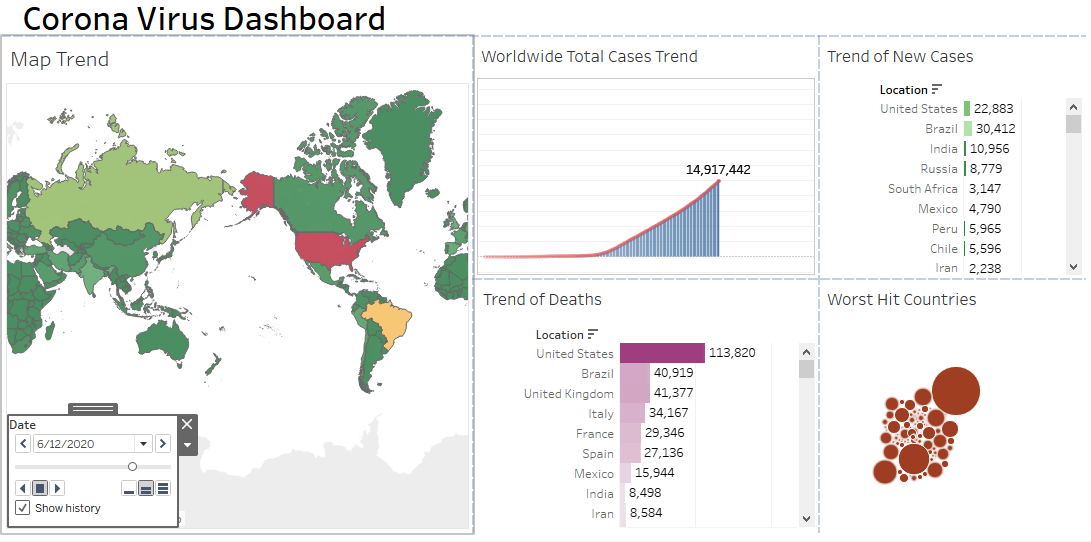

This screenshot's page, from the dashboard's own definition file:
{"tool":"tableau","page":{"name":"Corona Virus Dashboard","canvas":[1100,550],"ordinal":0},"visuals":[{"type":"worksheet","box":[0,0,1100,550]},{"type":"worksheet","param":"horz","box":[8,8,1084,534]},{"type":"worksheet","param":"horz","box":[8,8,1084,534]},{"type":"worksheet","param":"horz","box":[8,8,1084,534]},{"type":"worksheet","param":"horz","box":[8,8,1084,534]},{"type":"worksheet","param":"horz","box":[8,8,1084,534]},{"type":"worksheet","param":"horz","box":[8,8,1084,534]},{"type":"worksheet","param":"horz","box":[8,8,1084,534]},{"type":"worksheet","box":[8,8,1084,534]},{"type":"worksheet","box":[8,8,1084,37]},{"type":"worksheet","title":"Corona Worldwide","mark":"Automatic","box":[8,45,471,497]},{"type":"worksheet","title":"World Cases Trend","mark":"Bar","rows":["total_cases","total_cases"],"cols":["date"],"box":[479,45,346,243]},{"type":"worksheet","param":"horz","box":[825,45,267,243]},{"type":"worksheet","title":"Trend of NewCases","mark":"Automatic","rows":["location"],"cols":["new_cases"],"box":[825,45,267,243]},{"type":"worksheet","title":"Trend of Deaths","mark":"Bar","rows":["location"],"cols":["total_deaths"],"box":[479,288,346,254]},{"type":"worksheet","title":"Worst Hit Countries","mark":"Circle","box":[825,288,267,254]},{"type":"worksheet","title":"Corona Worldwide","mark":"Automatic","box":[15,425,168,110]}]}

Visuals, with their boxes in screenshot pixels (x1, y1, x2, y2), scaled from the page's 1100x550 canvas onto the 1091x542 screenshot:
worksheet: x1=0, y1=0, x2=1090, y2=541
worksheet: x1=8, y1=8, x2=1083, y2=534
worksheet: x1=8, y1=8, x2=1083, y2=534
worksheet: x1=8, y1=8, x2=1083, y2=534
worksheet: x1=8, y1=8, x2=1083, y2=534
worksheet: x1=8, y1=8, x2=1083, y2=534
worksheet: x1=8, y1=8, x2=1083, y2=534
worksheet: x1=8, y1=8, x2=1083, y2=534
worksheet: x1=8, y1=8, x2=1083, y2=534
worksheet: x1=8, y1=8, x2=1083, y2=44
"Corona Worldwide" worksheet: x1=8, y1=44, x2=475, y2=534
"World Cases Trend" worksheet (Bar marks): x1=475, y1=44, x2=818, y2=284
worksheet: x1=818, y1=44, x2=1083, y2=284
"Trend of NewCases" worksheet: x1=818, y1=44, x2=1083, y2=284
"Trend of Deaths" worksheet (Bar marks): x1=475, y1=284, x2=818, y2=534
"Worst Hit Countries" worksheet (Circle marks): x1=818, y1=284, x2=1083, y2=534
"Corona Worldwide" worksheet: x1=15, y1=419, x2=182, y2=527
